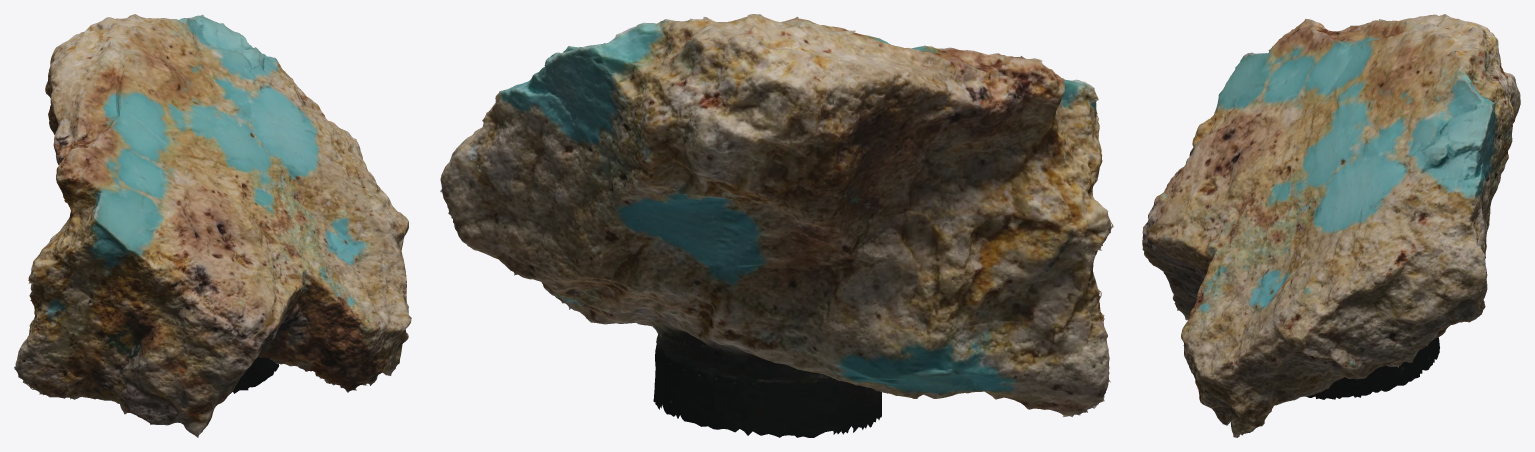
Rendered from turquoise.glb.
3 views of the same model, side by side, from view 1: azimuth 30°, elevation 25°; view 2: azimuth 150°, elevation 25°; view 3: azimuth 270°, elevation 25° (orthographic). The views are drawn at different scales.
Parts seen in each view (by area): view 1: Object_2; view 2: Object_2; view 3: Object_2.
Part boxes in pixels (bbox=[...]): Object_2: bbox=[14, 14, 411, 437]; Object_2: bbox=[440, 14, 1113, 437]; Object_2: bbox=[1142, 14, 1520, 437].
Size of the model in its own units: 2.75 by 2.13 by 2.24.
1 material, 1 textured.
